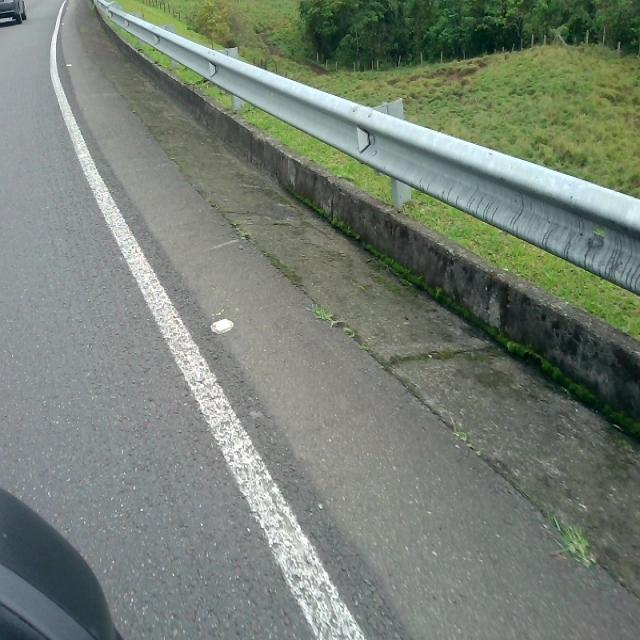DITCH: (47, 1, 638, 638)
